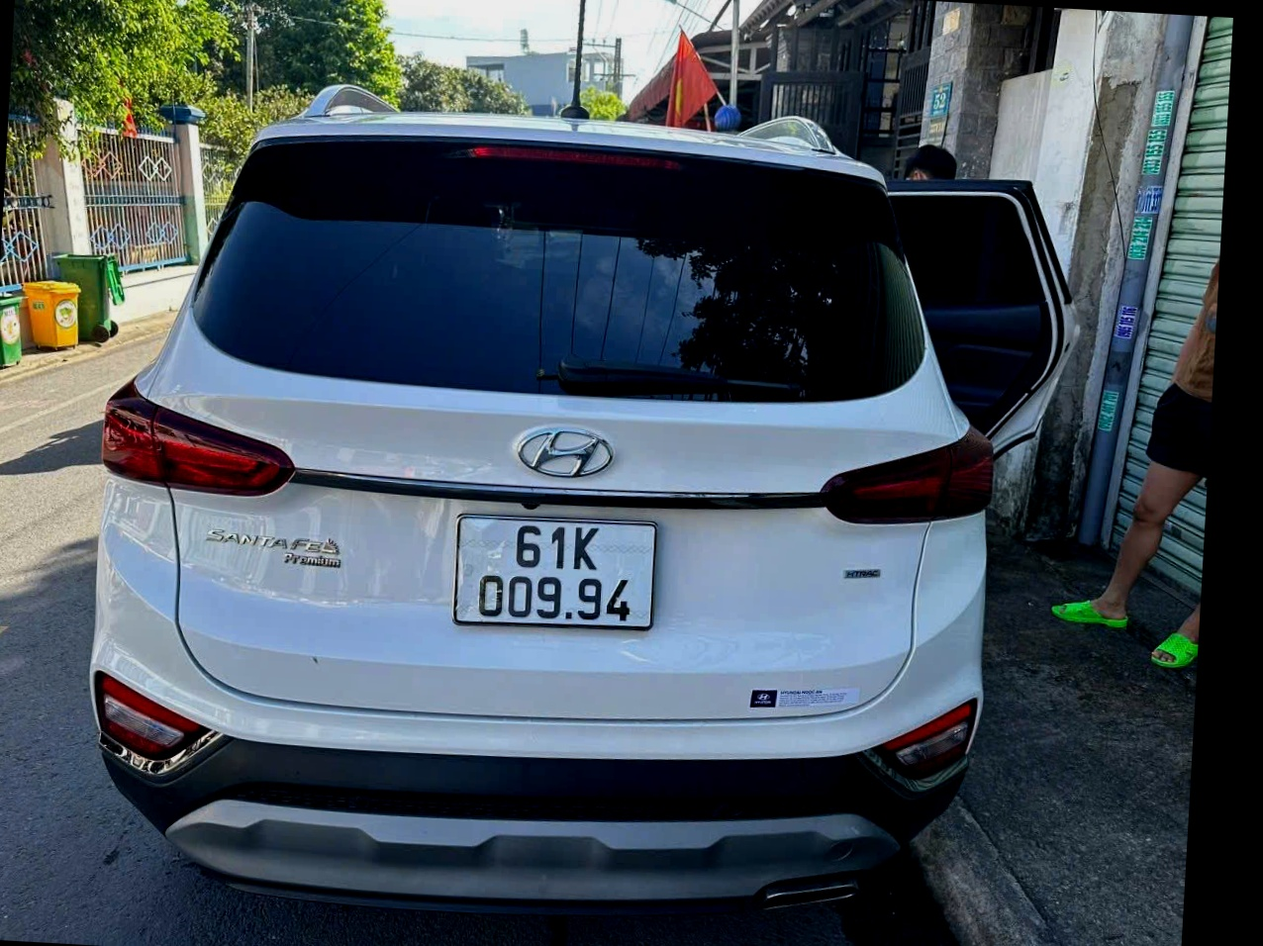Bien-so: (447, 500, 660, 647)
